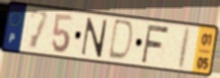5: (51, 12, 75, 55)
7: (28, 8, 50, 52)
D: (106, 18, 136, 63)
F: (139, 23, 171, 64)
I: (175, 26, 193, 72)
N: (79, 16, 109, 59)
